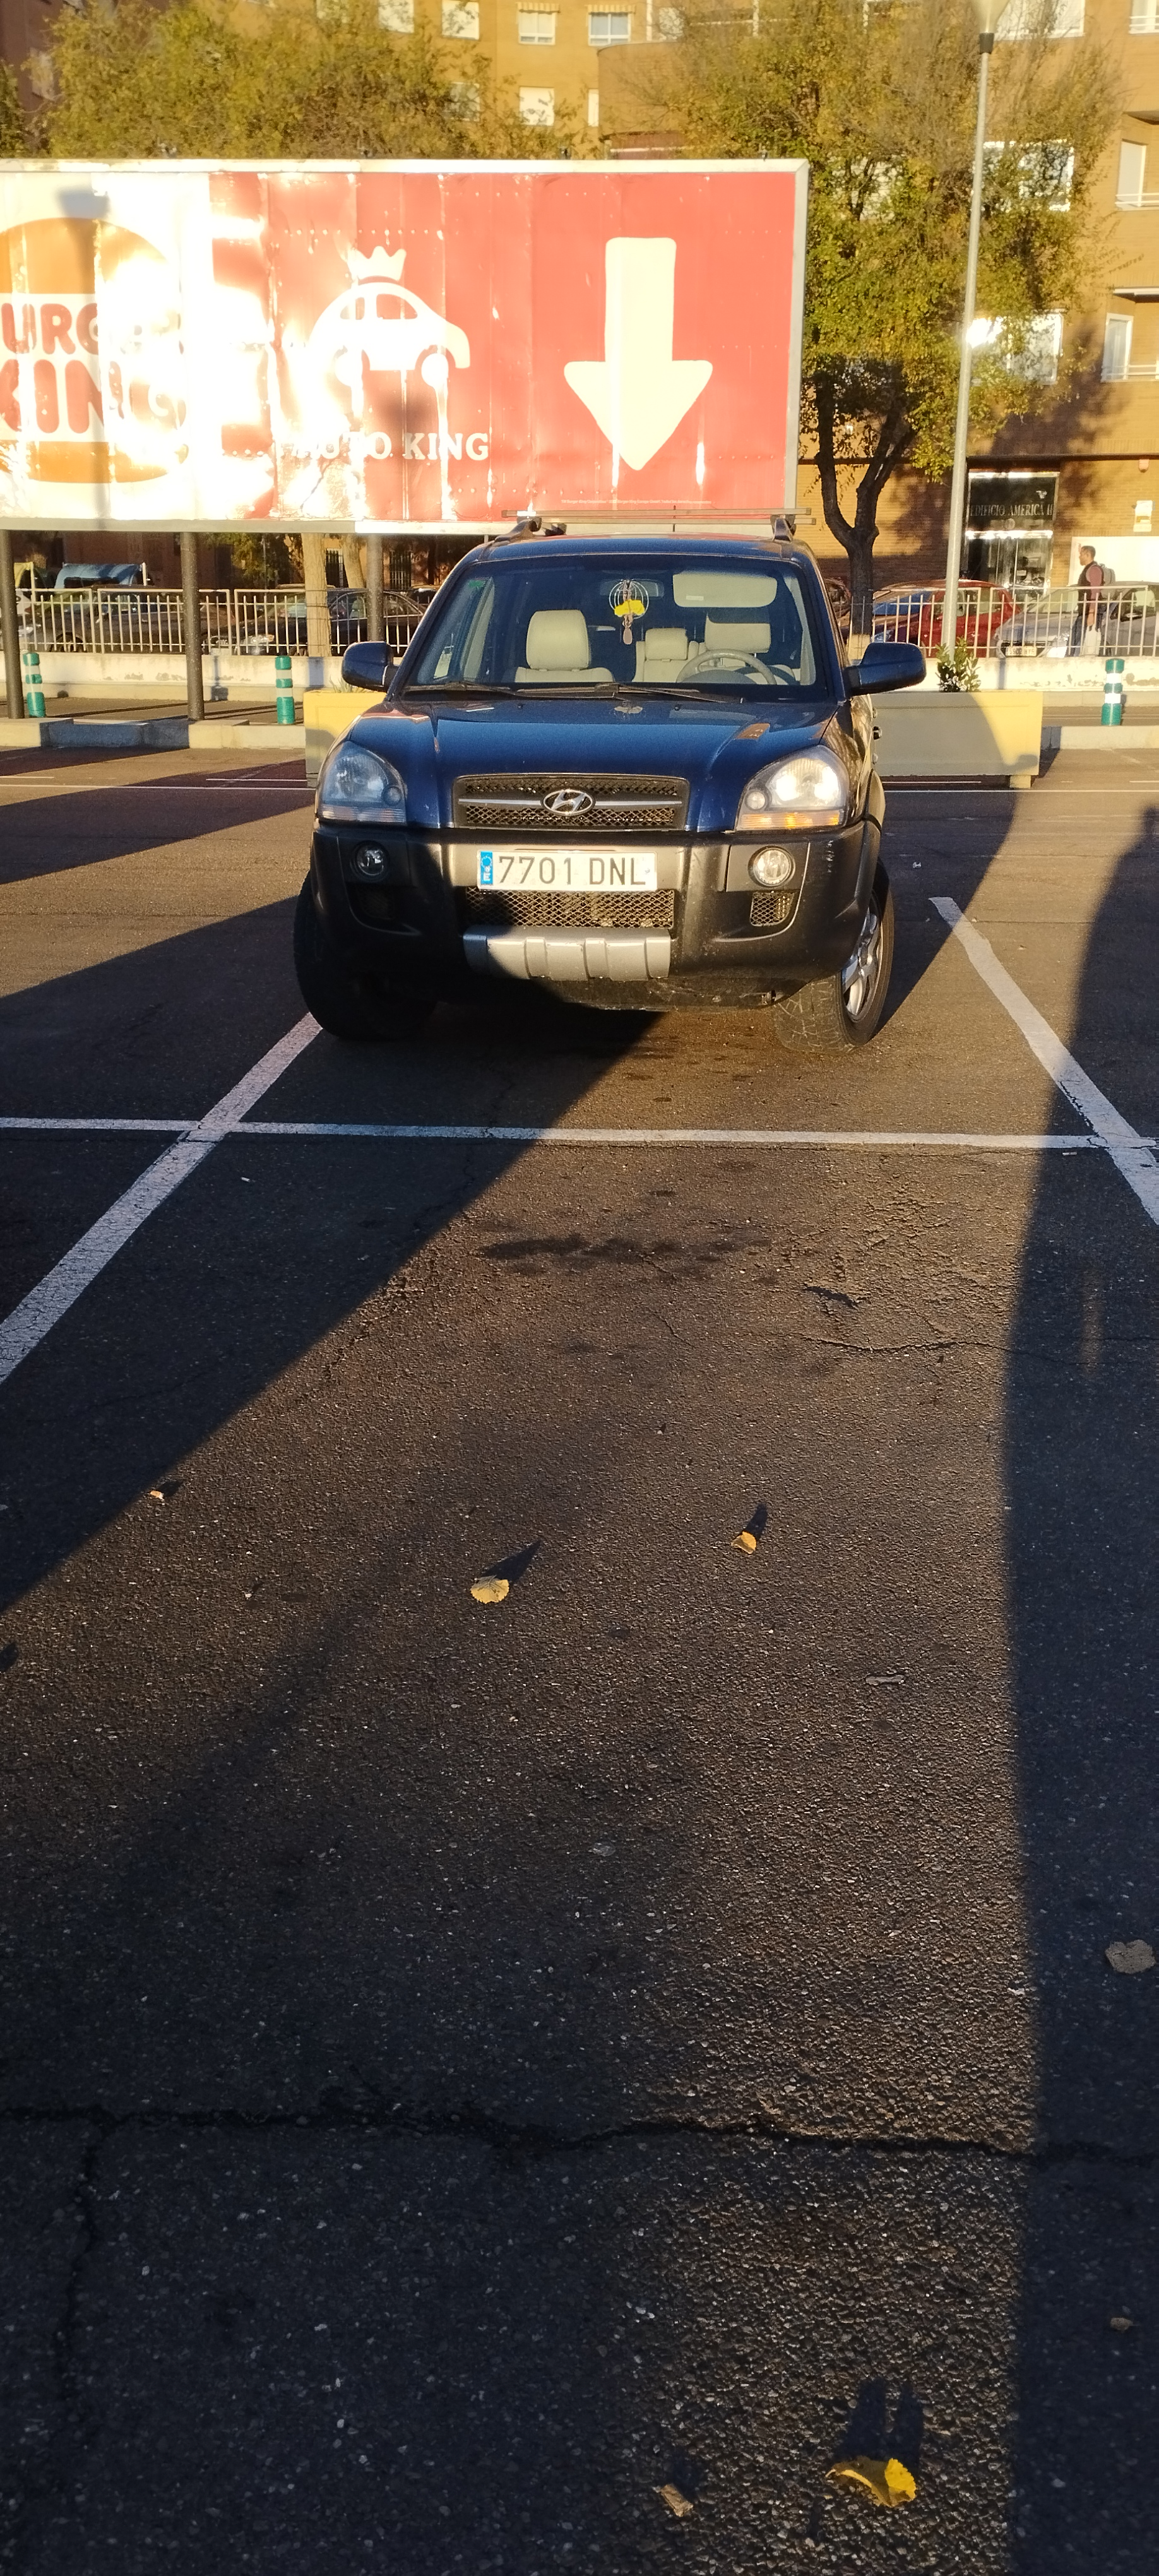Car: (307, 501, 889, 1039)
Plate: (477, 846, 659, 893)
